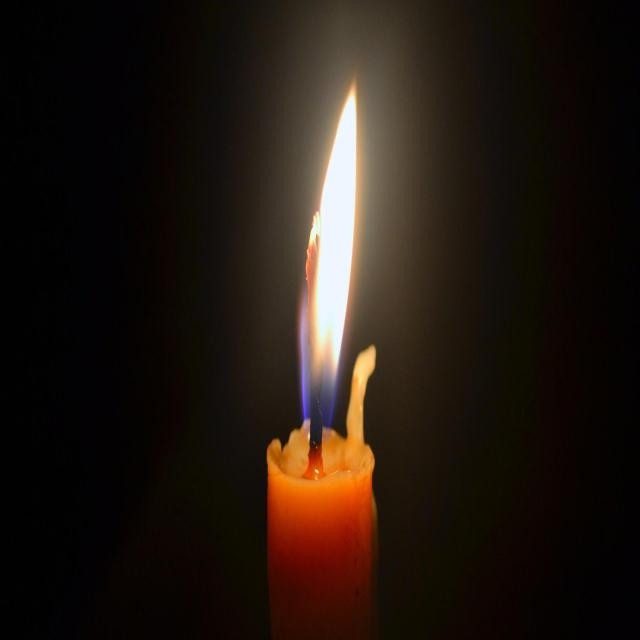Fire_Save: (266, 79, 379, 637), (298, 79, 358, 433)
